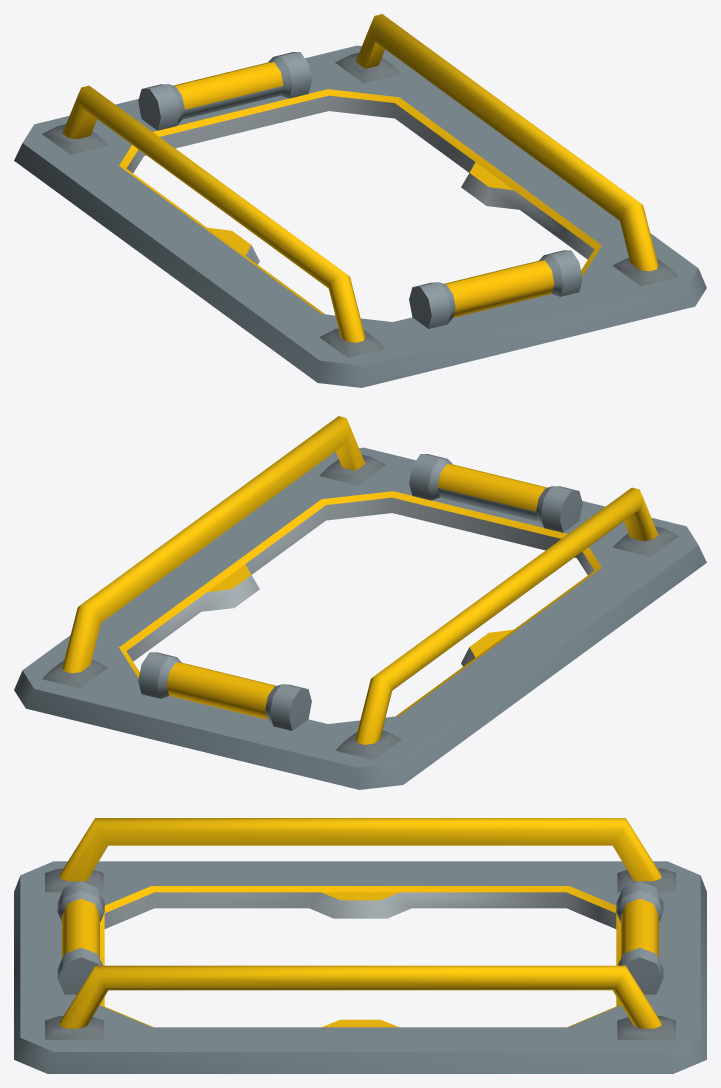
The model's file is Hatch_011.fbx.
3 renders of one model, top to bottom at view 1: azimuth 30°, elevation 25°; view 2: azimuth 150°, elevation 25°; view 3: azimuth 270°, elevation 25°, orthographic. The views are drawn at different scales.
Visible parts, largest first — view 1: Hatch_011; view 2: Hatch_011; view 3: Hatch_011.
Part boxes in pixels (<box>): Hatch_011: <box>14,14,706,387</box>; Hatch_011: <box>14,416,706,789</box>; Hatch_011: <box>14,818,706,1073</box>.
Bounding box in the file's own units: 87 × 130 × 16.96.
